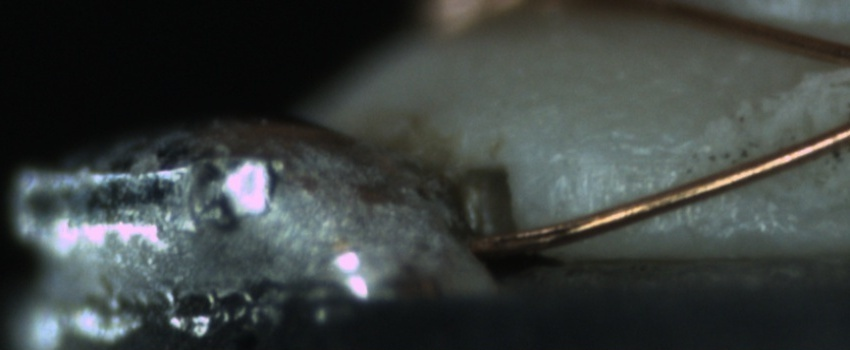DL: (559, 125, 713, 186)
